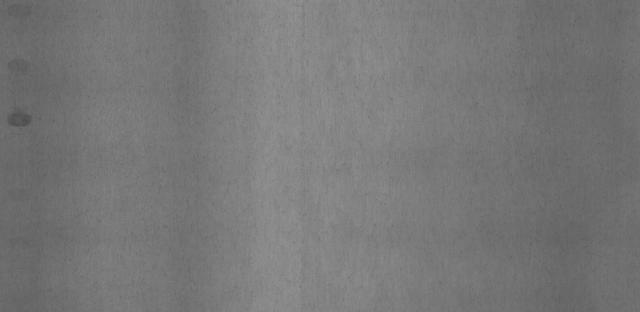oil_spot: (9, 53, 35, 86), (7, 109, 37, 134)
